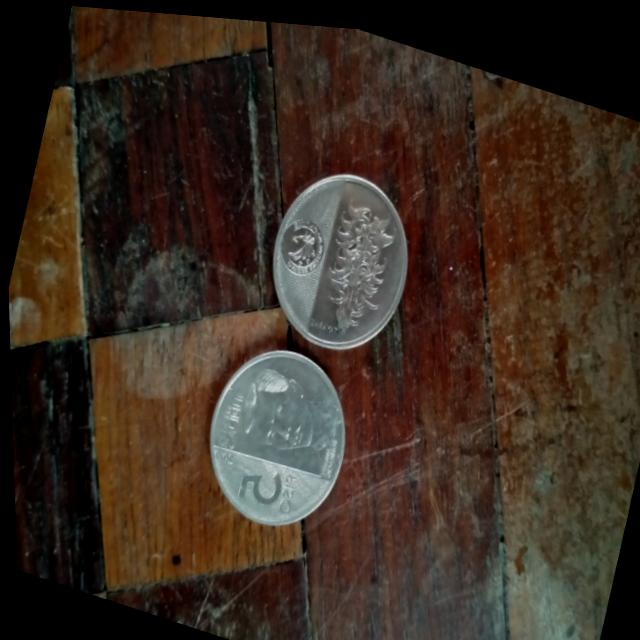5_New_Back: (304, 184, 408, 349)
5_New_Front: (222, 437, 312, 529)
